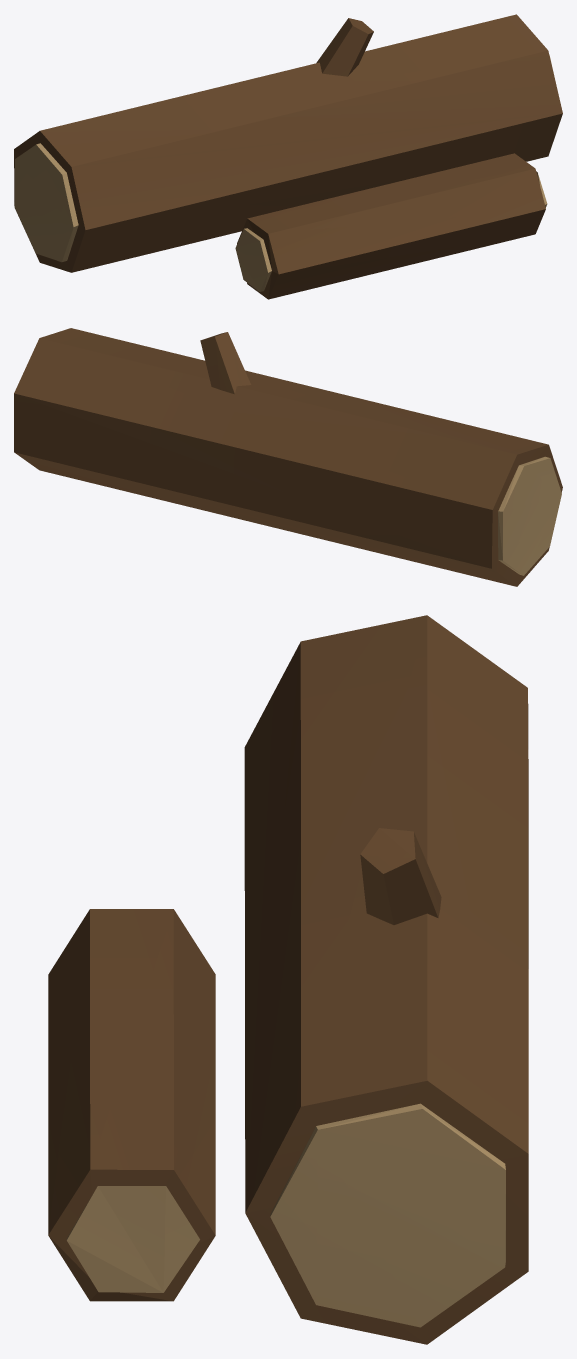
The model's file is prop_log_lod2.glb.
3 renders of one model, top to bottom at view 1: azimuth 30°, elevation 25°; view 2: azimuth 150°, elevation 25°; view 3: azimuth 270°, elevation 25°, orthographic. The views are drawn at different scales.
Parts seen in each view (by area): view 1: prop_log_lod2; view 2: prop_log_lod2; view 3: prop_log_lod2.
Part boxes in pixels (x1=…): prop_log_lod2: x1=14, y1=14, x2=562, y2=299; prop_log_lod2: x1=14, y1=328, x2=562, y2=586; prop_log_lod2: x1=48, y1=615, x2=528, y2=1344.
Size of the model in its own units: 2.24 by 0.8017 by 0.9534.
